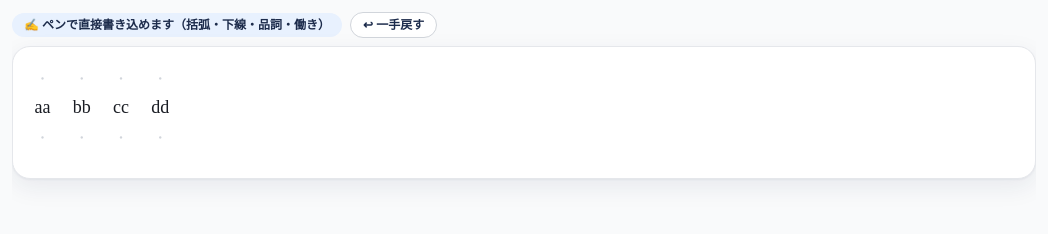
it: PenSyntaxAnnotator 全記号の自動確定（2026-09-02） › 波線は単語の間で途切れないひとつながりの1本として描かれる（2026-09-02 項目2）
Press the mouse on the drawing at x=524, y=112, box [13,47,1035,178]
Wait 800 ms
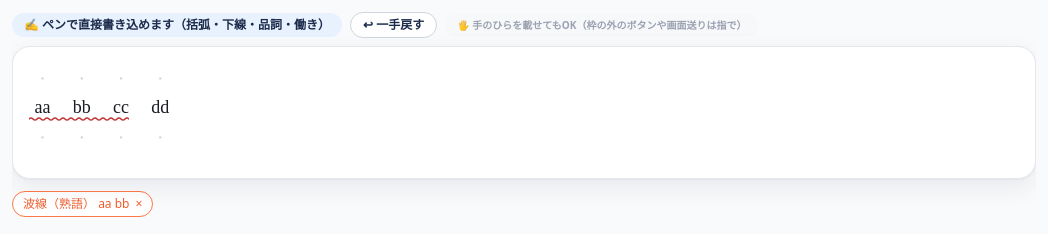
Result: the text "波線（熟語）" is shown at [23,195,95,212]
